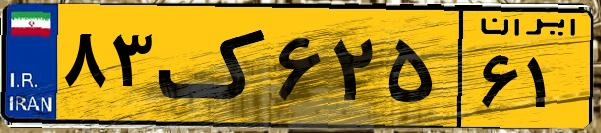1: (525, 38, 570, 115)
2: (330, 28, 385, 110)
3: (110, 28, 158, 98)
5: (385, 28, 445, 110)
6: (270, 28, 330, 110), (475, 38, 525, 113)
8: (57, 26, 110, 100)
ک: (158, 12, 270, 120)
